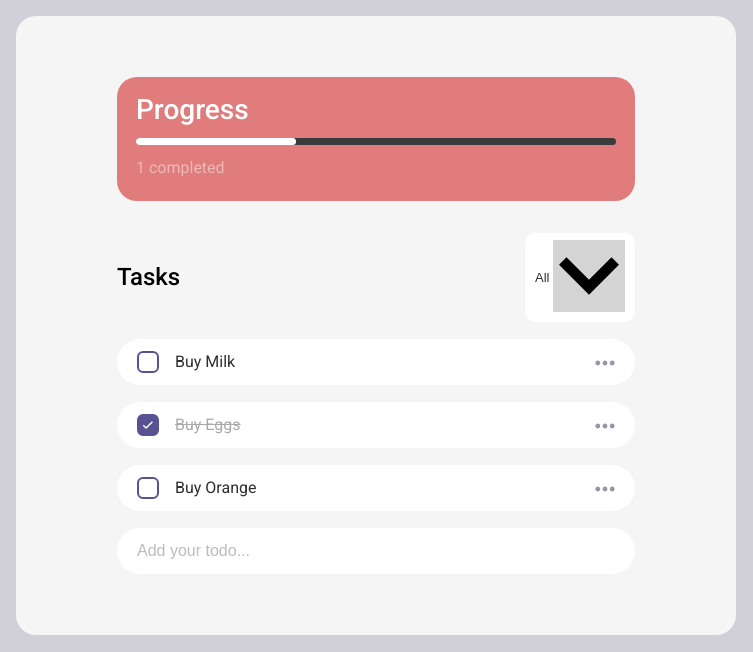
Test: TodoApp › can see what is done
The width and height of the screenshot is (753, 652).
Click the button with id "filterTodoButton" at (580, 278), box [525, 233, 635, 322]
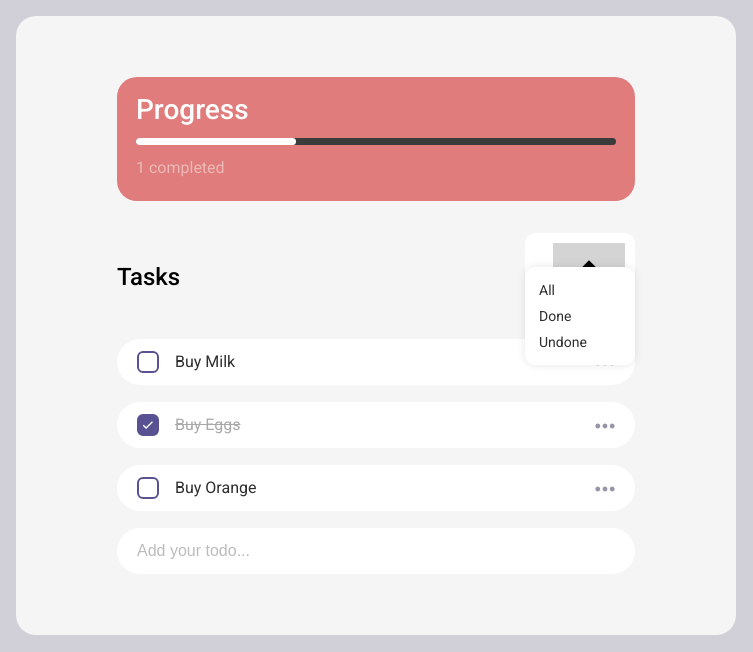
Click the list item with test id "list-done" at (555, 316), box [539, 308, 571, 324]
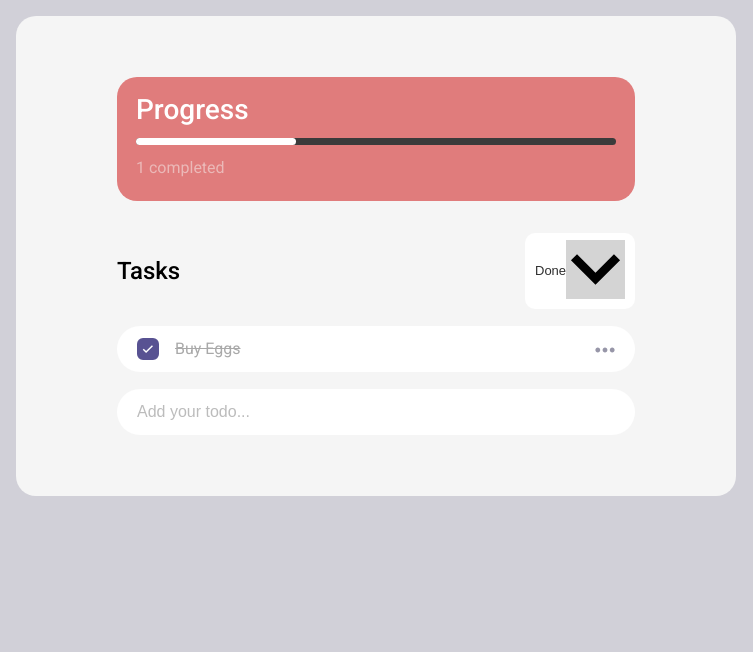
Expected: the number of list items is 1, [117, 326, 635, 372]
